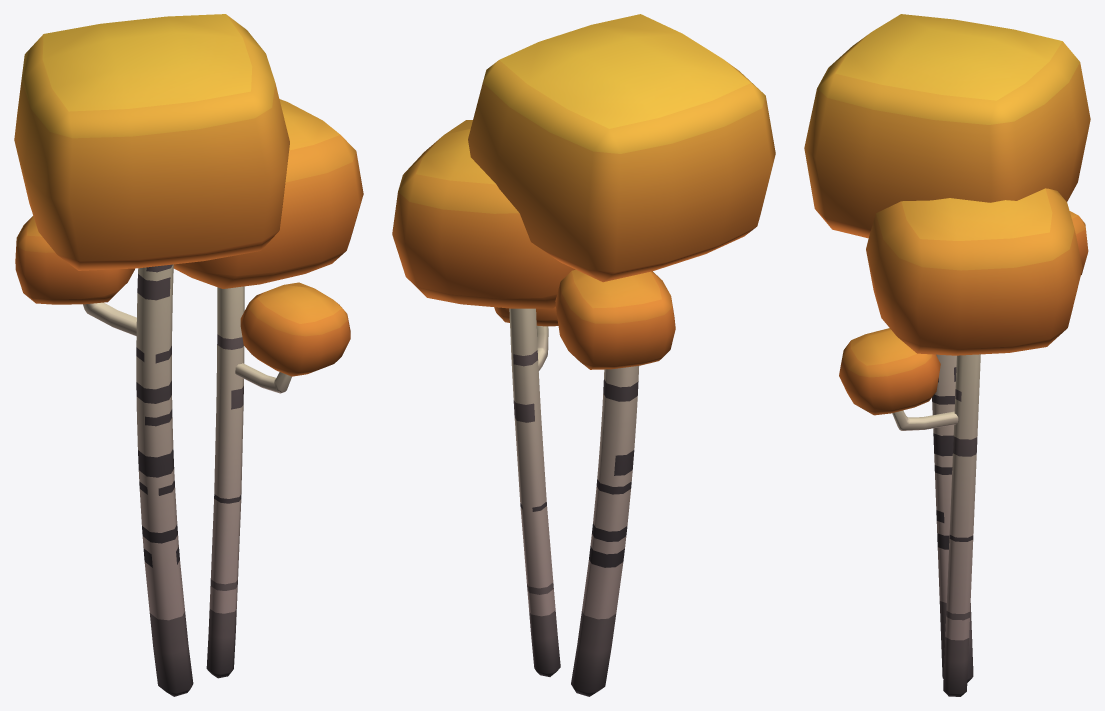
The model's file is birch_tree_col2_06.fbx.
3 views of the same model, side by side, from view 1: azimuth 30°, elevation 25°; view 2: azimuth 150°, elevation 25°; view 3: azimuth 270°, elevation 25° (orthographic). The views are drawn at different scales.
Visible parts, largest first — view 1: birch_tree_col2_06; view 2: birch_tree_col2_06; view 3: birch_tree_col2_06.
Part boxes in pixels (x1=…): birch_tree_col2_06: x1=14, y1=14, x2=363, y2=696; birch_tree_col2_06: x1=392, y1=14, x2=775, y2=696; birch_tree_col2_06: x1=804, y1=14, x2=1090, y2=696.
Size of the model in its own units: 373 by 706 by 294.
Materials: 1 (1 with a texture image).
